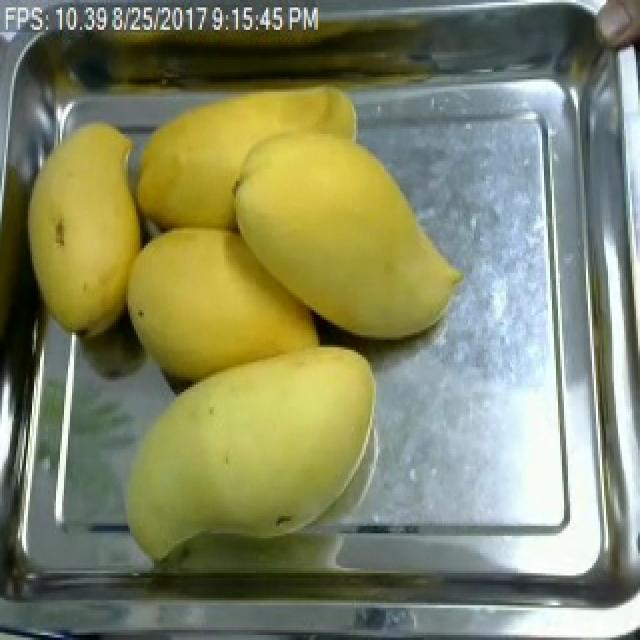fruit: (108, 338, 386, 558), (212, 119, 474, 350), (110, 211, 316, 399), (12, 109, 158, 350)
